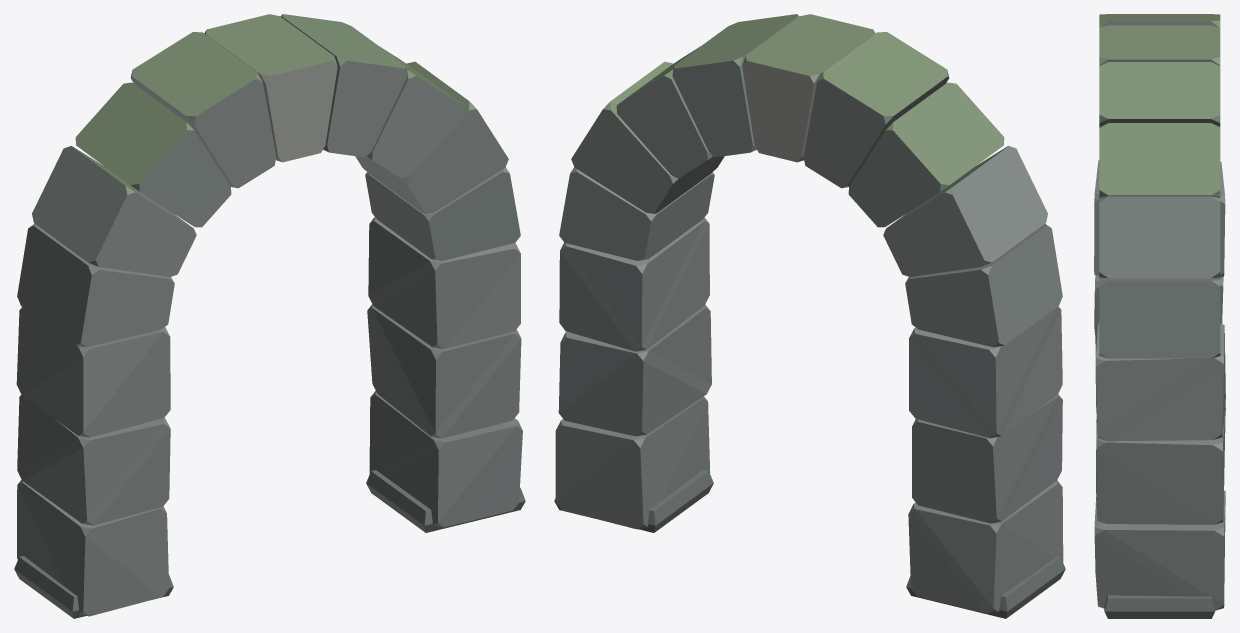
3 renders of one model, left to right at view 1: azimuth 30°, elevation 25°; view 2: azimuth 150°, elevation 25°; view 3: azimuth 270°, elevation 25°, orthographic. The views are drawn at different scales.
Parts seen in each view (by area): view 1: geometry_0; view 2: geometry_0; view 3: geometry_0.
Part boxes in pixels (x1,y1,x2,y2): geometry_0: (14, 14, 525, 618); geometry_0: (554, 14, 1065, 618); geometry_0: (1094, 14, 1225, 618).
Size of the model in its own units: 3.04 by 3.22 by 0.8075.
